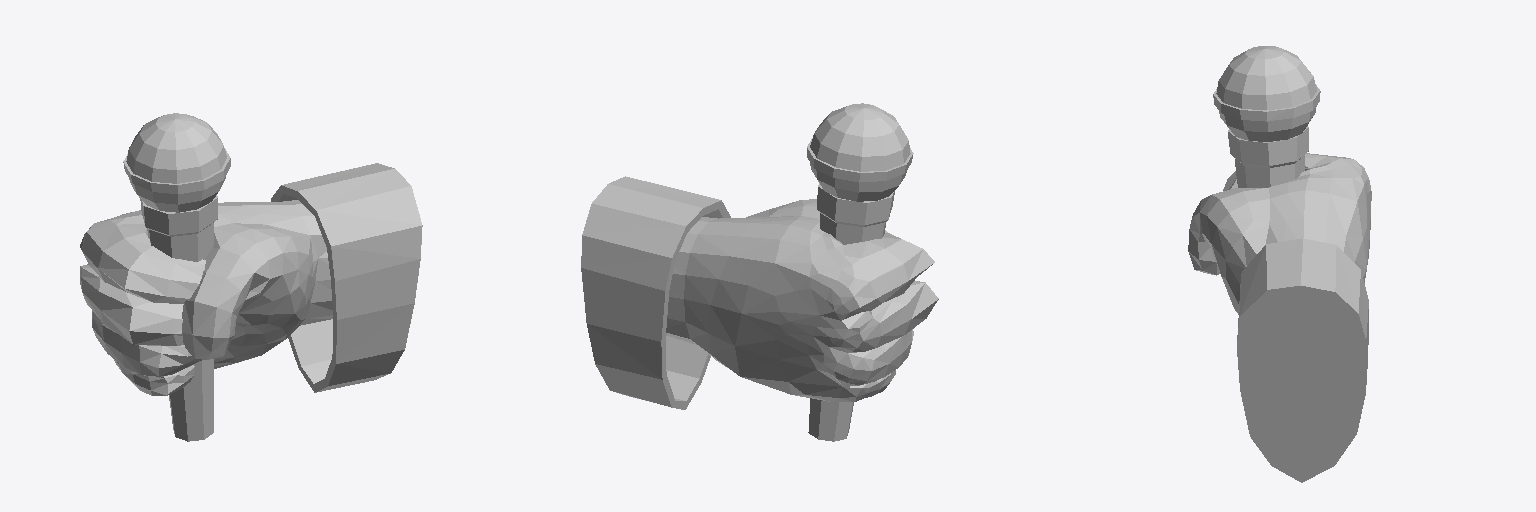
Rendered from char1-hand-right.obj.
The picture shows the model from 3 angles: view 1: azimuth 30°, elevation 25°; view 2: azimuth 150°, elevation 25°; view 3: azimuth 270°, elevation 25°; orthographic projection.
Parts seen in each view (by area): view 1: hand-right; view 2: hand-right; view 3: hand-right.
Part boxes in pixels (x1,y1,x2,y2): hand-right: (80, 113, 422, 441); hand-right: (581, 103, 938, 441); hand-right: (1188, 46, 1371, 482).
Bounding box in the file's own units: 0.2582 × 0.2705 × 0.1373.